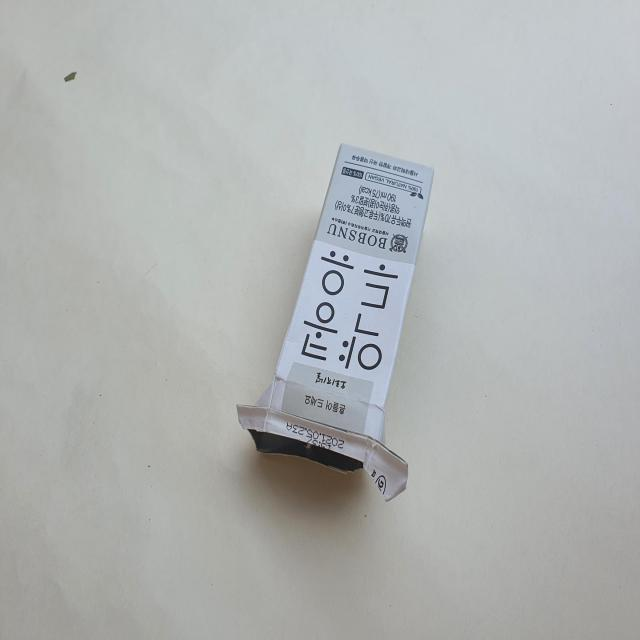paperpack: (237, 144, 434, 501)
